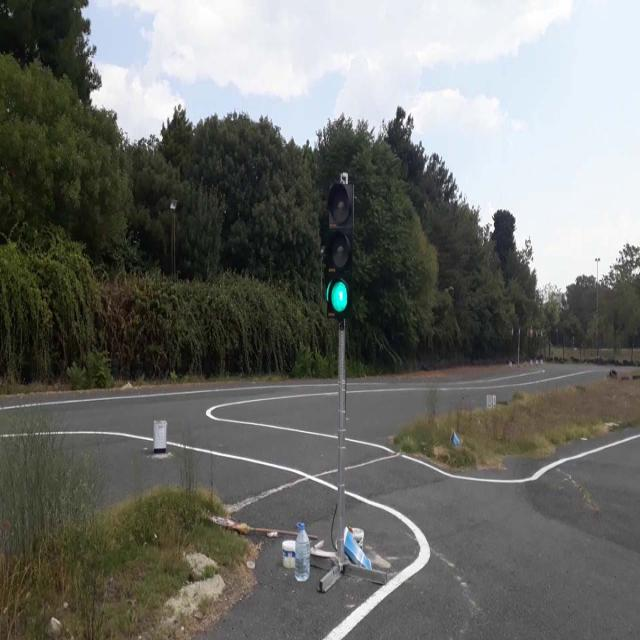yesil: (324, 180, 354, 321)
